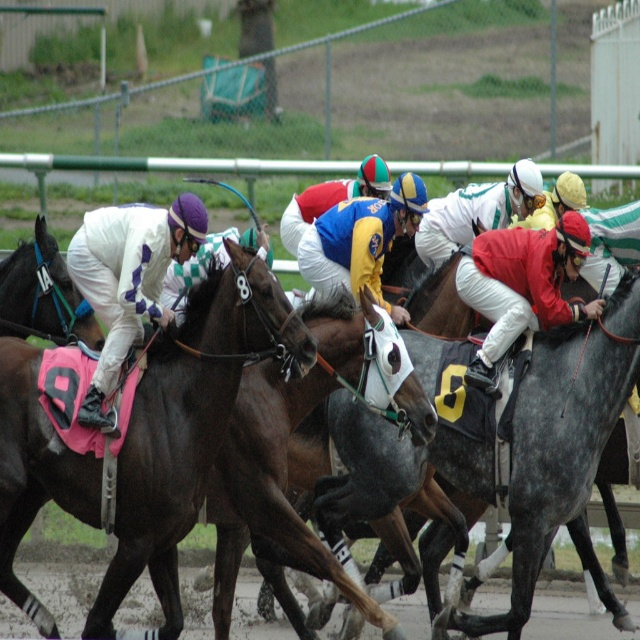Horse: (0, 213, 640, 640)
